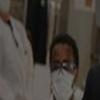mask: (50, 49, 78, 97)
